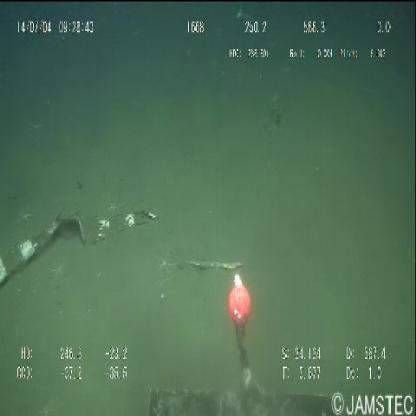Rác: (0, 208, 158, 282)
